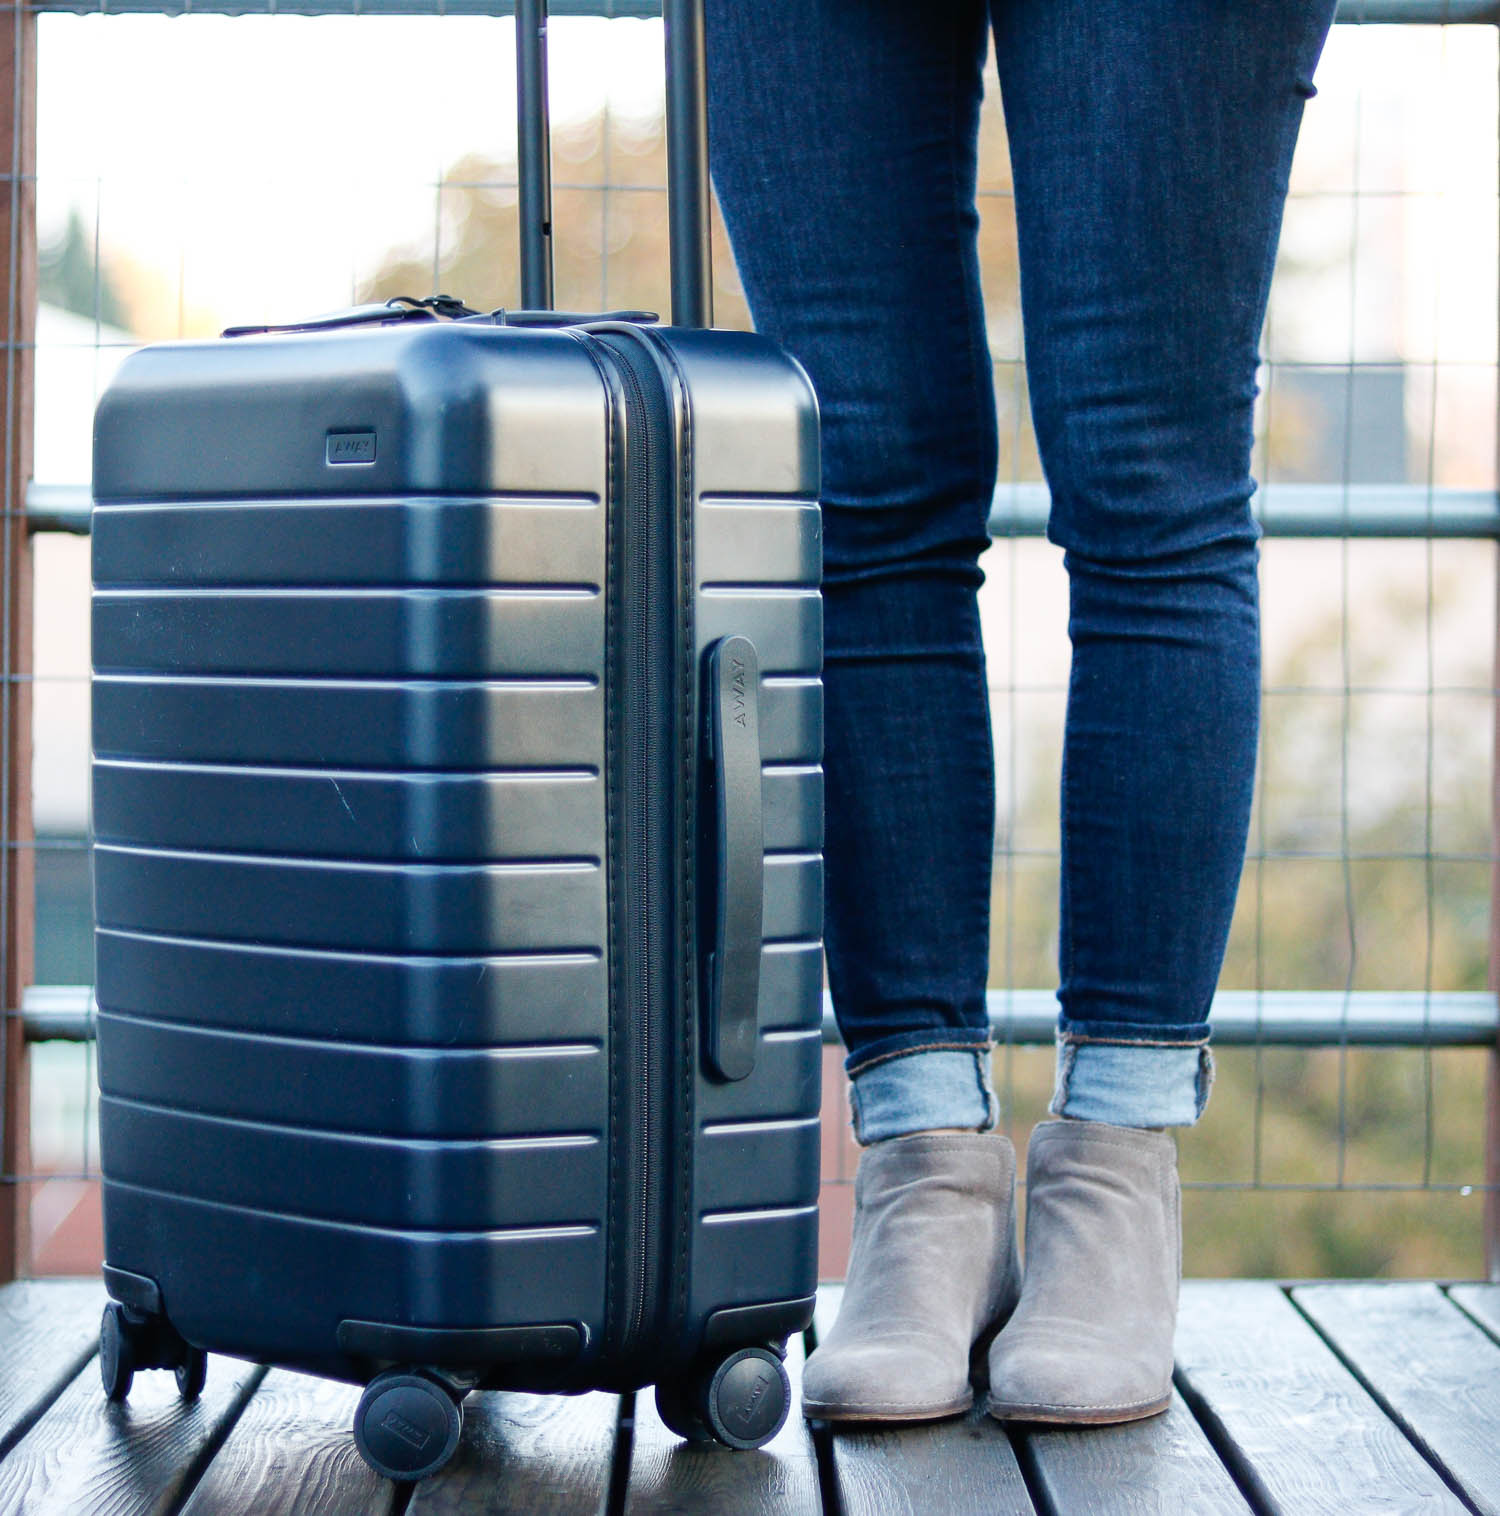luggage: (54, 148, 815, 1436)
